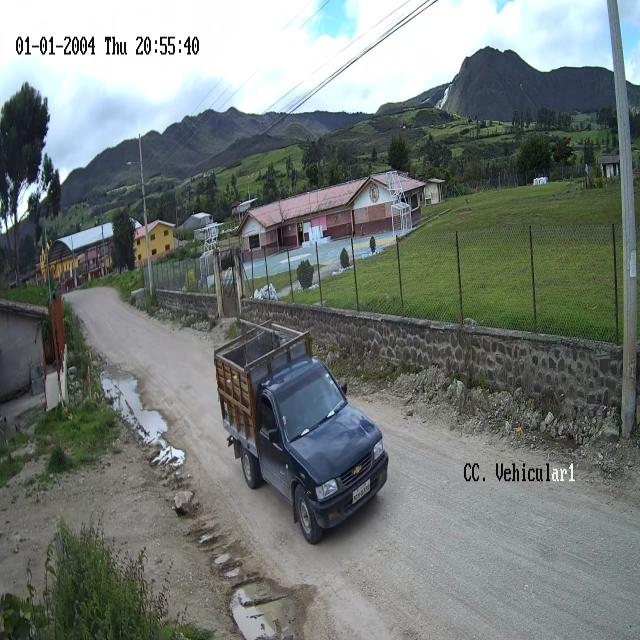CMT: (213, 323, 387, 537)
